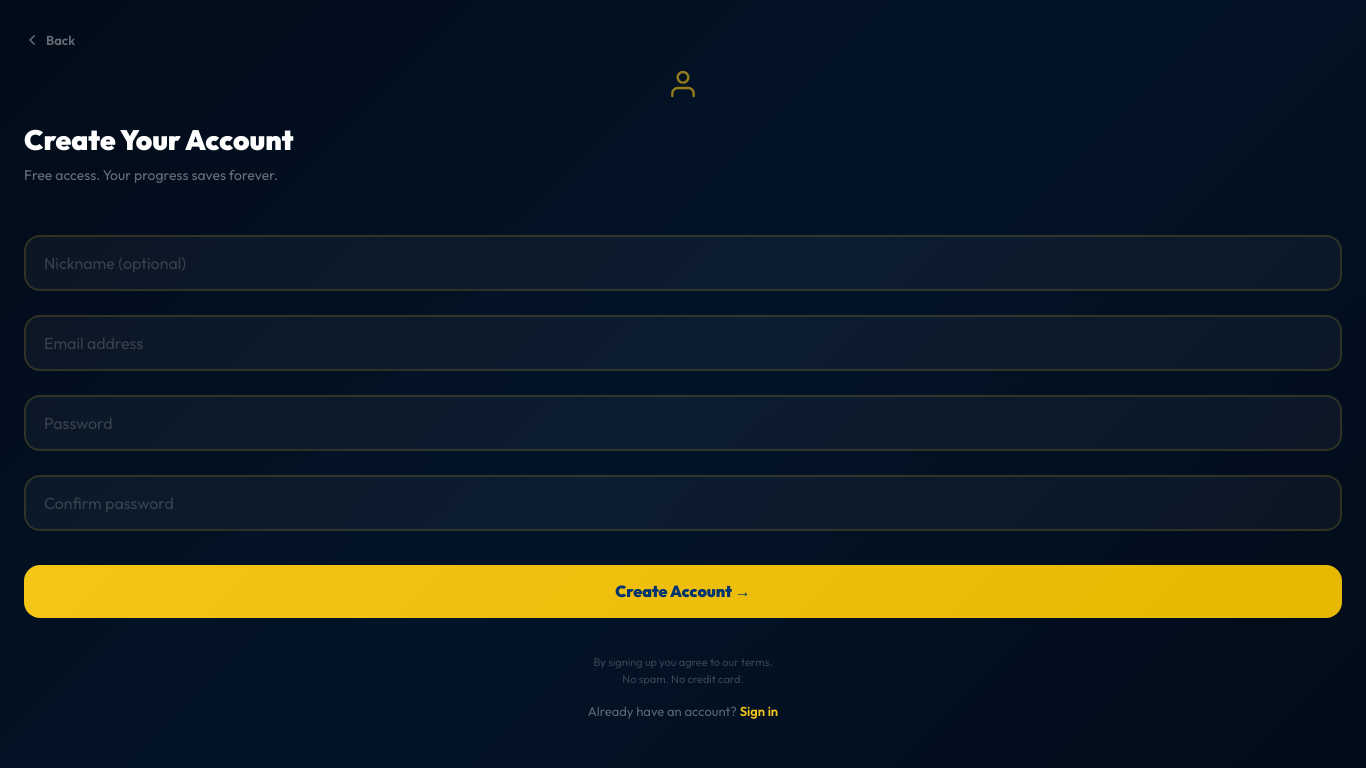
Test: SignupScreen › shows mismatch error when passwords differ
The width and height of the screenshot is (1366, 768).
Type "new@test.com" into the field with placeholder "Email address".
click(683, 343); type("new@test.com")  # box [24,315,1342,371]
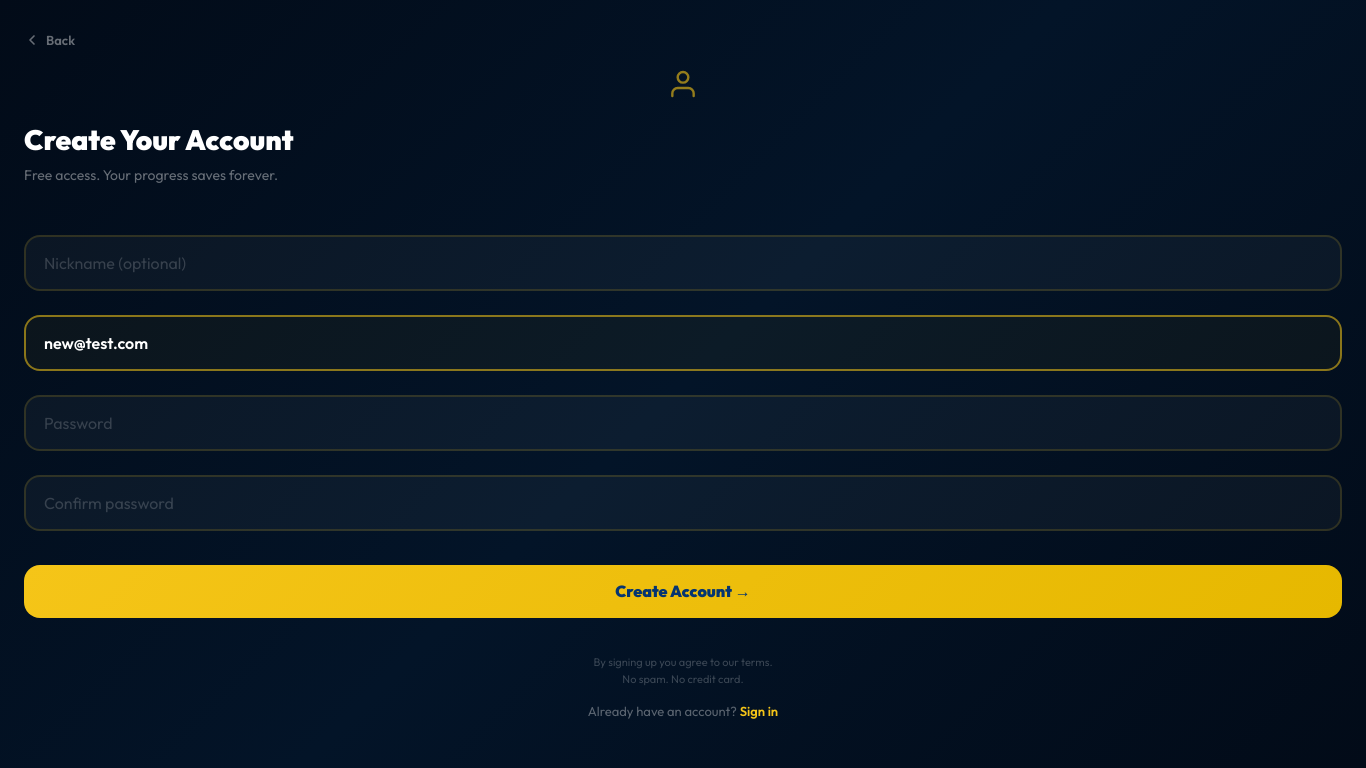
Type "password123" into the password field with placeholder "Password".
click(683, 423); type("password123")  # box [24,395,1342,451]
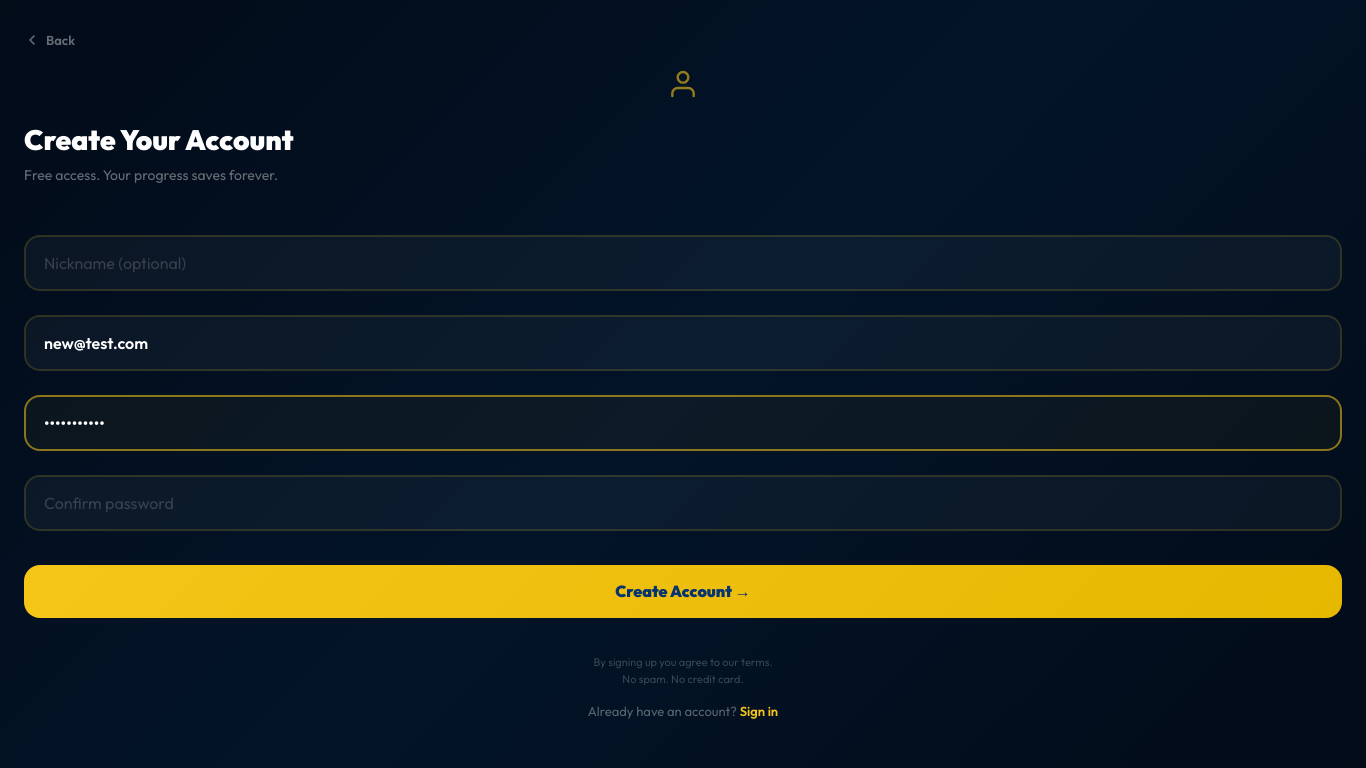
Type "different" into the password field with placeholder "Confirm password".
click(683, 503); type("different")  # box [24,475,1342,531]
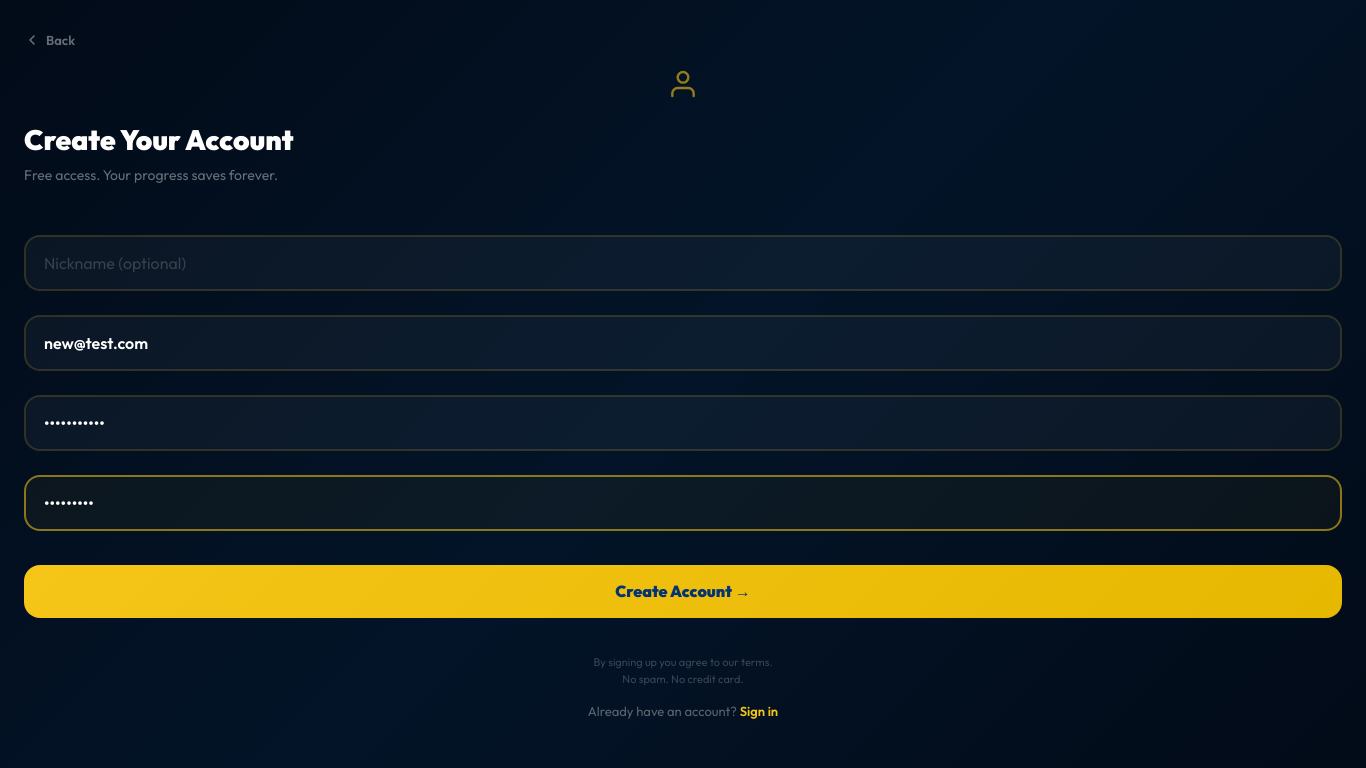
Click the button "Create Account →".
click(683, 591)  # box [24,565,1342,618]
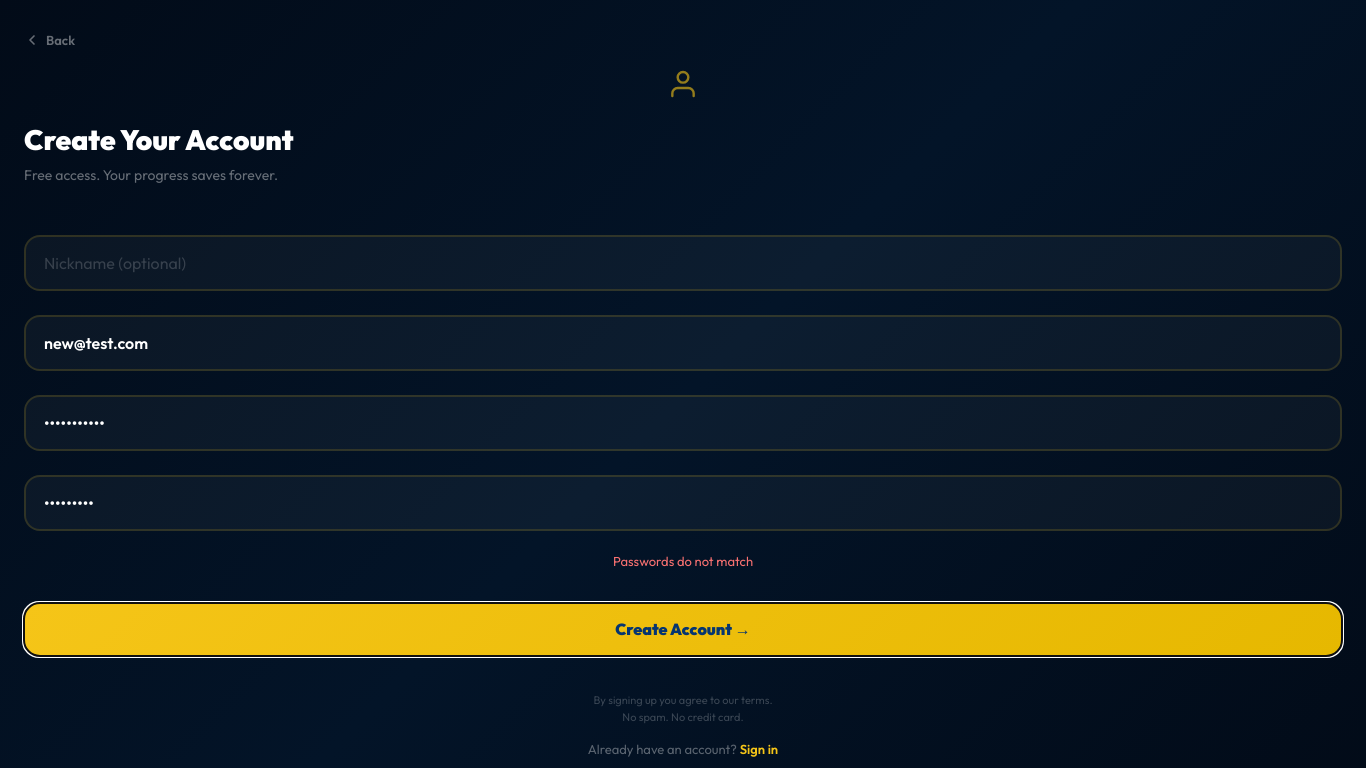
Now the text "Passwords do not match" is shown, box [613,553,753,569]
